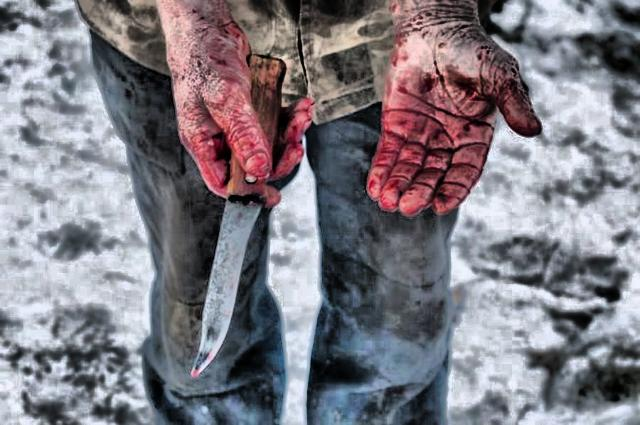knife: (183, 130, 301, 384)
